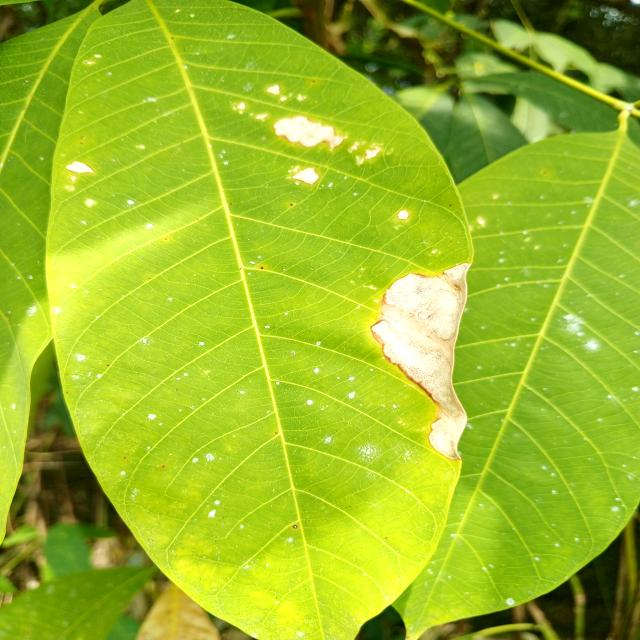Colletotrichum: (260, 267, 264, 269)
Leaf-Blight: (370, 262, 472, 460), (273, 116, 344, 150), (292, 167, 319, 184), (65, 162, 94, 173), (365, 149, 380, 159), (266, 85, 280, 95), (398, 210, 410, 220)
